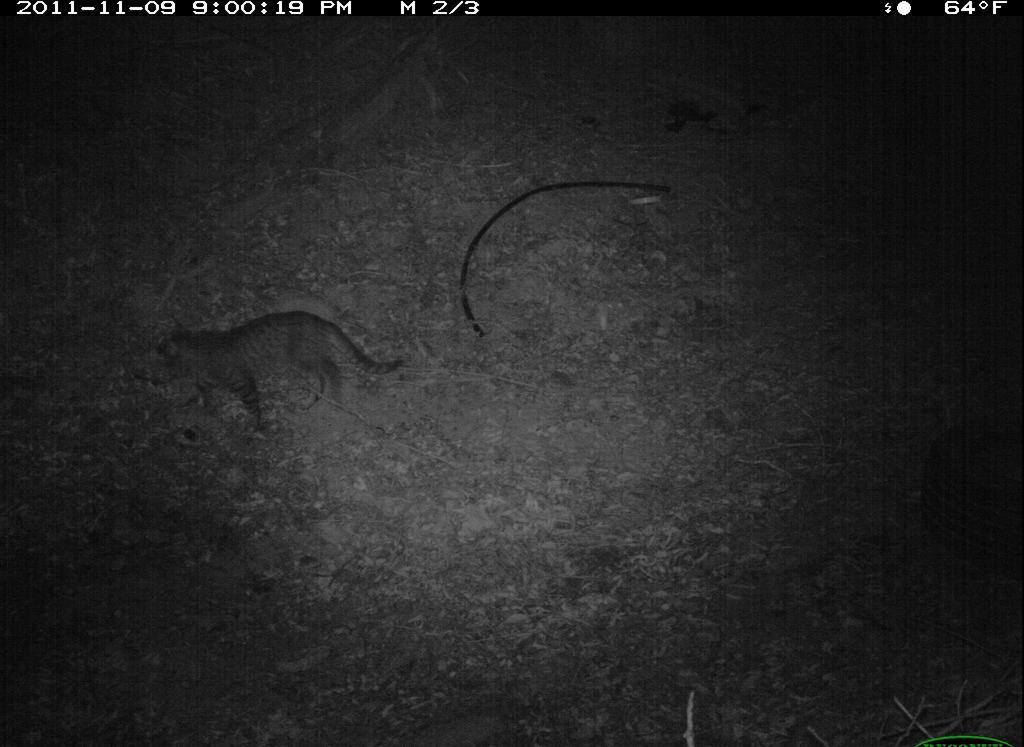cat: (139, 304, 413, 427)
